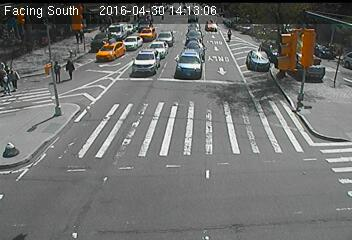neg: (48, 91, 68, 117), (129, 107, 147, 132), (319, 122, 336, 146), (211, 59, 228, 82), (291, 85, 308, 107), (329, 68, 345, 90), (256, 18, 272, 40), (184, 53, 200, 73), (102, 37, 117, 58), (29, 113, 44, 133), (224, 24, 237, 41), (80, 195, 92, 212), (145, 51, 157, 67), (148, 4, 159, 19)
pos: (46, 58, 66, 85), (4, 66, 23, 92), (62, 58, 80, 81), (75, 27, 88, 44)
